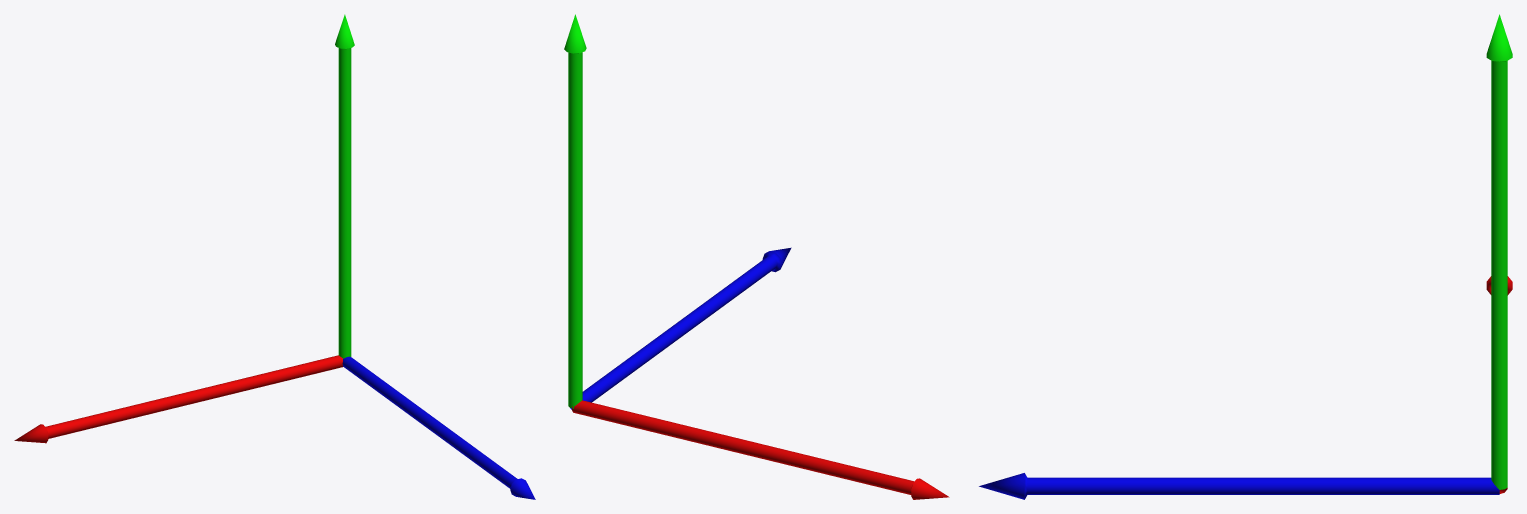
File: axis.fbx
3 renders of one model, left to right at view 1: azimuth 30°, elevation 25°; view 2: azimuth 150°, elevation 25°; view 3: azimuth 270°, elevation 25°, orthographic. The views are drawn at different scales.
Visible parts, largest first — view 1: yAxis, xAxis, zAxis; view 2: yAxis, xAxis, zAxis; view 3: zAxis, yAxis.
Boxes of the visible parts, left/top/right/bottom form: yAxis: left=335, top=14, right=354, bottom=358; xAxis: left=14, top=355, right=342, bottom=443; zAxis: left=342, top=356, right=535, bottom=499; yAxis: left=564, top=14, right=586, bottom=408; xAxis: left=572, top=400, right=949, bottom=499; zAxis: left=570, top=247, right=791, bottom=409; zAxis: left=979, top=473, right=1499, bottom=499; yAxis: left=1486, top=14, right=1512, bottom=489.
Bounding box in the file's own units: 6.18 × 6.18 × 6.17.
